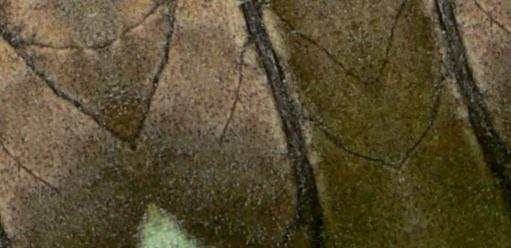Tomato leaf late blight: (62, 0, 449, 248)
